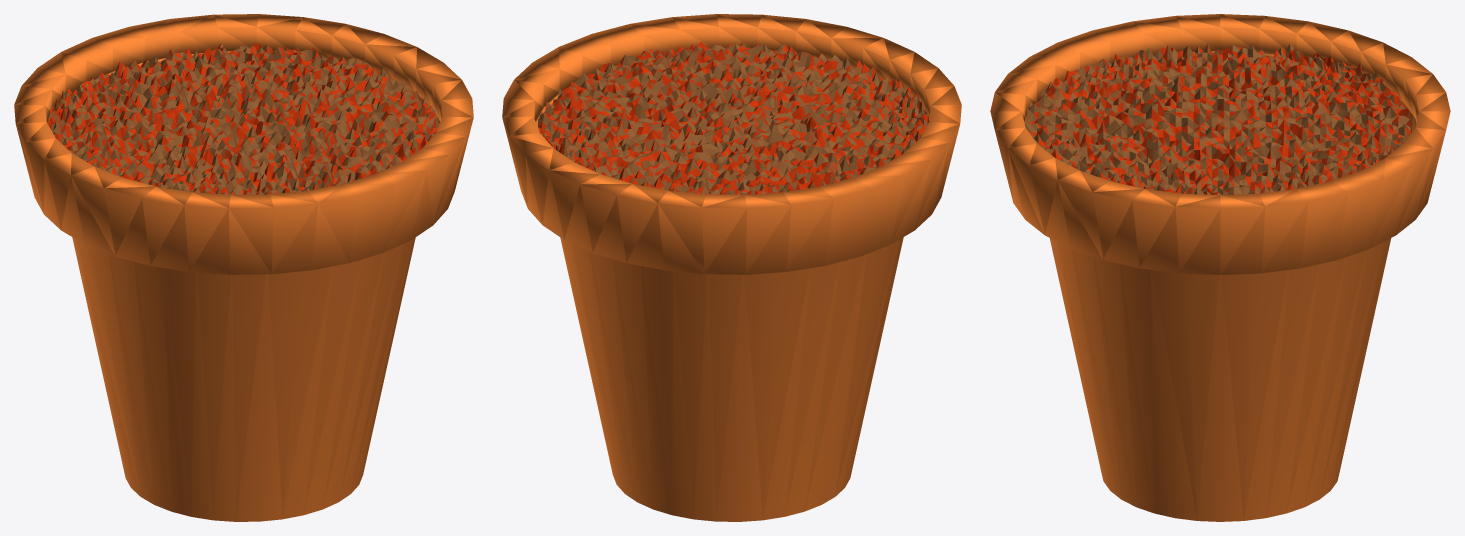
File: maceta.fbx
3 renders of one model, left to right at view 1: azimuth 30°, elevation 25°; view 2: azimuth 150°, elevation 25°; view 3: azimuth 270°, elevation 25°, orthographic.
Parts seen in each view (by area): view 1: Cylinder, Plane; view 2: Cylinder, Plane; view 3: Cylinder, Plane.
Boxes of the visible parts, <box> form: Cylinder: <box>14,14,473,521</box>; Plane: <box>47,43,439,194</box>; Cylinder: <box>502,14,961,521</box>; Plane: <box>537,42,929,194</box>; Cylinder: <box>990,14,1450,521</box>; Plane: <box>1024,43,1410,195</box>.
Bounding box in the file's own units: 232 × 200 × 232.
2 materials, 2 textured.
